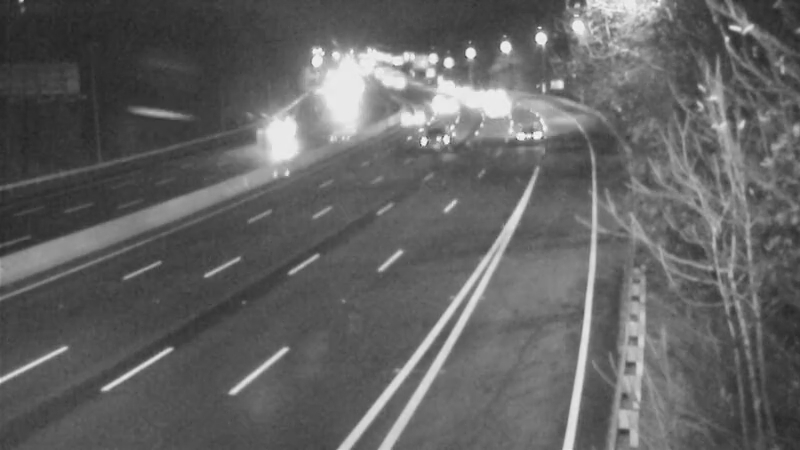vehicle: (451, 75, 501, 125), (467, 81, 517, 131), (382, 93, 432, 143), (496, 109, 546, 159), (414, 113, 464, 163), (255, 109, 305, 159)
